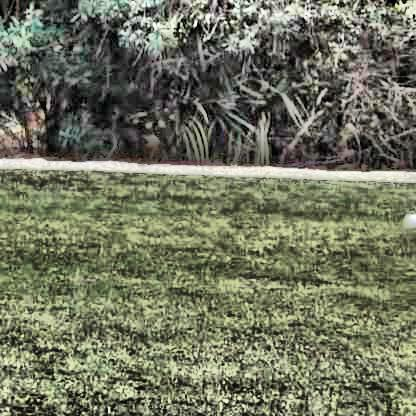golfball: (402, 206, 414, 224)
